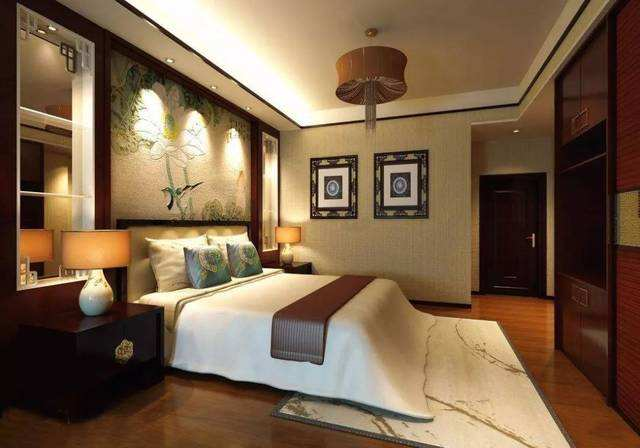床: (123, 269, 528, 415)
枕头: (146, 232, 260, 286)
灯: (336, 32, 411, 125), (63, 228, 131, 324), (17, 228, 53, 287), (273, 224, 302, 269), (163, 57, 177, 67)
